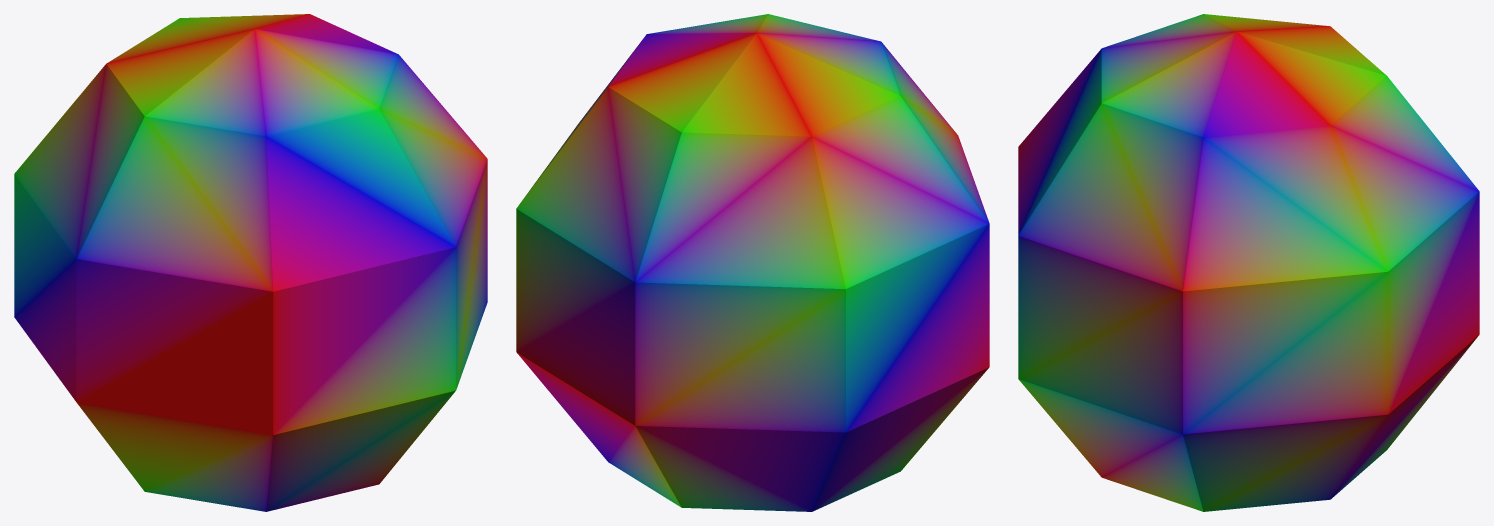
File: re_decimating_conquest_27_retriangulation.obj
3 views of the same model, side by side, from view 1: azimuth 30°, elevation 25°; view 2: azimuth 150°, elevation 25°; view 3: azimuth 270°, elevation 25° (orthographic).
Size of the model in its own units: 1.85 by 2 by 1.81.
